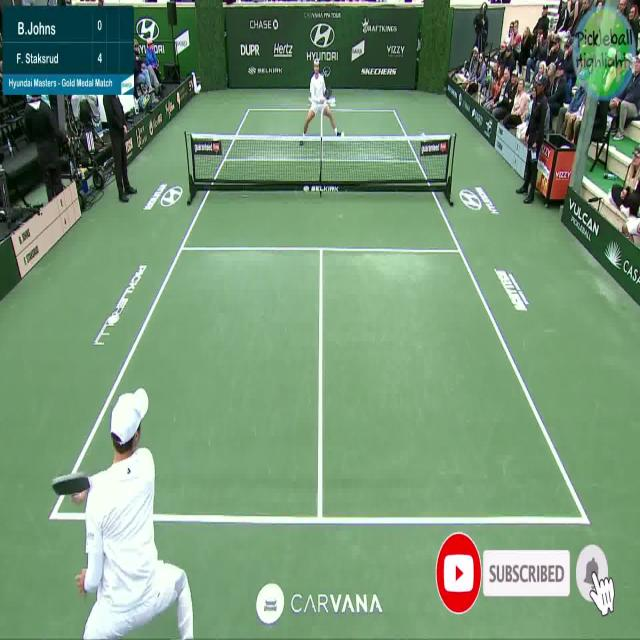Court: (53, 105, 586, 523)
